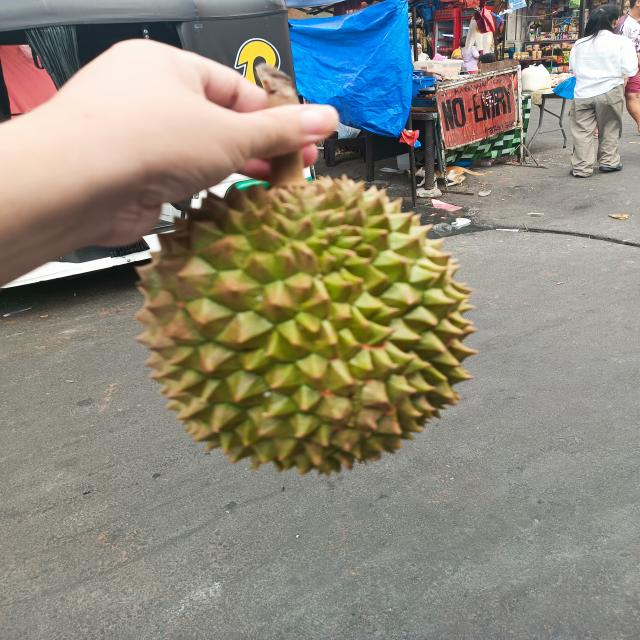mature: (136, 176, 477, 474)
